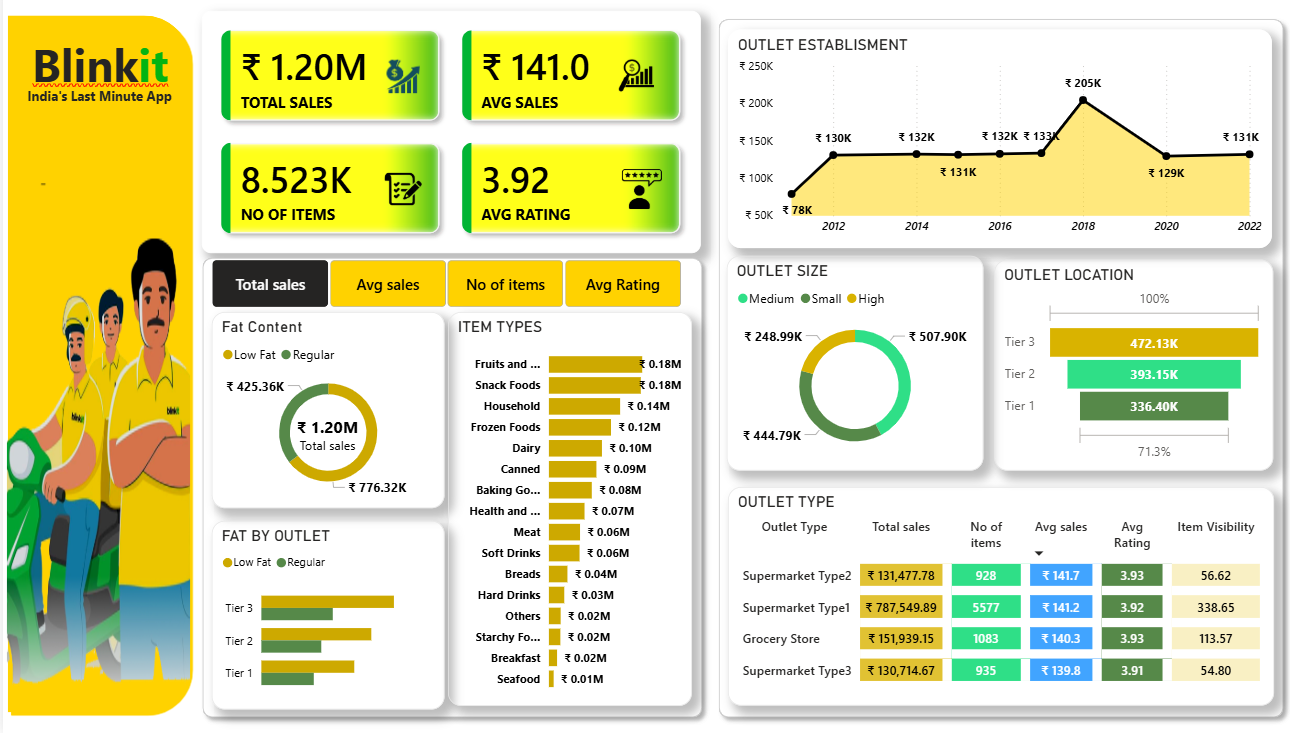

The page's visual inventory and layout, read from the dashboard file:
{"tool":"powerbi","page":{"name":"Page 1","canvas":[1400,800],"ordinal":0},"visuals":[{"type":"shape","box":[0,25.5,205.1,757.4],"z":0},{"type":"textbox","box":[20,45,168.3,75],"z":1000},{"type":"textbox","box":[5,101.7,196.7,36.7],"z":2000},{"type":"cardVisual","fields":{"Data":["BlinkIT Grocery Data.Total sales","BlinkIT Grocery Data.Avg sales","BlinkIT Grocery Data.No of items","BlinkIT Grocery Data.Avg Rating"]},"box":[213.1,25.5,534.9,260.1],"z":3000},{"type":"shape","box":[204.8,281.2,553.6,510.7],"z":4000},{"type":"donutChart","title":" Fat Content","fields":{"Y":["BlinkIT Grocery Data.Total sales"],"Category":["BlinkIT Grocery Data.Item Fat Content"]},"box":[223.9,348.5,249.3,210.5],"z":5000},{"type":"advancedSlicerVisual","fields":{"Values":["metrics.metrics"]},"box":[219.5,288.2,514.7,60.3],"z":6000},{"type":"cardVisual","fields":{"Data":["BlinkIT Grocery Data.Total sales"]},"box":[276.1,441,144.8,77.7],"z":7000},{"type":"clusteredBarChart","title":"FAT BY OUTLET","fields":{"Y":["BlinkIT Grocery Data.Total sales"],"Category":["BlinkIT Grocery Data.Outlet Location Type"],"Series":["BlinkIT Grocery Data.Item Fat Content"]},"box":[223.9,572.4,249.3,202.4],"z":8000},{"type":"barChart","title":"ITEM TYPES","fields":{"Y":["BlinkIT Grocery Data.Total sales"],"Category":["BlinkIT Grocery Data.Item Type"]},"box":[476.8,348.5,261.4,422.3],"z":9000},{"type":"shape","box":[758.7,25.5,623.3,766.8],"z":10000},{"type":"lineChart","title":"OUTLET ESTABLISMENT","fields":{"Category":["BlinkIT Grocery Data.Outlet Establishment Year"],"Y":["BlinkIT Grocery Data.Total sales"]},"box":[777.5,45.6,583.1,234.6],"z":11000},{"type":"donutChart","title":"OUTLET SIZE","fields":{"Y":["BlinkIT Grocery Data.Total sales"],"Category":["BlinkIT Grocery Data.Outlet Size"]},"box":[776.1,288.2,274.8,230.6],"z":12000},{"type":"funnel","title":"OUTLET LOCATION","fields":{"Category":["BlinkIT Grocery Data.Outlet Location Type"],"Y":["Sum(BlinkIT Grocery Data.Sales)"]},"box":[1063,292.2,298.9,226.5],"z":13000},{"type":"pivotTable","title":"OUTLET TYPE","fields":{"Rows":["BlinkIT Grocery Data.Outlet Type"],"Values":["BlinkIT Grocery Data.Total sales","BlinkIT Grocery Data.No of items","BlinkIT Grocery Data.Avg sales","BlinkIT Grocery Data.Avg Rating","Sum(BlinkIT Grocery Data.Item Visibility)"]},"box":[777.5,536.2,585.8,234.6],"z":14000},{"type":"image","box":[4,210.5,197.1,589.8],"z":14001}]}

Visuals, with their boxes in screenshot pixels (x1, y1, x2, y2), scaled from the page's 1400x800 canvas onto the 1290x733 screenshot:
shape: (left=0, top=23, right=189, bottom=717)
textbox: (left=18, top=41, right=174, bottom=110)
textbox: (left=5, top=93, right=186, bottom=127)
cardVisual - BlinkIT Grocery Data.Total sales x BlinkIT Grocery Data.Avg sales: (left=196, top=23, right=689, bottom=262)
shape: (left=189, top=258, right=699, bottom=726)
" Fat Content" donutChart: (left=206, top=319, right=436, bottom=512)
advancedSlicerVisual - metrics.metrics: (left=202, top=264, right=677, bottom=319)
cardVisual - BlinkIT Grocery Data.Total sales: (left=254, top=404, right=388, bottom=475)
"FAT BY OUTLET" clusteredBarChart: (left=206, top=524, right=436, bottom=710)
"ITEM TYPES" barChart: (left=439, top=319, right=680, bottom=706)
shape: (left=699, top=23, right=1273, bottom=726)
"OUTLET ESTABLISMENT" lineChart: (left=716, top=42, right=1254, bottom=257)
"OUTLET SIZE" donutChart: (left=715, top=264, right=968, bottom=475)
"OUTLET LOCATION" funnel: (left=979, top=268, right=1255, bottom=475)
"OUTLET TYPE" pivotTable: (left=716, top=491, right=1256, bottom=706)
image: (left=4, top=193, right=185, bottom=732)
